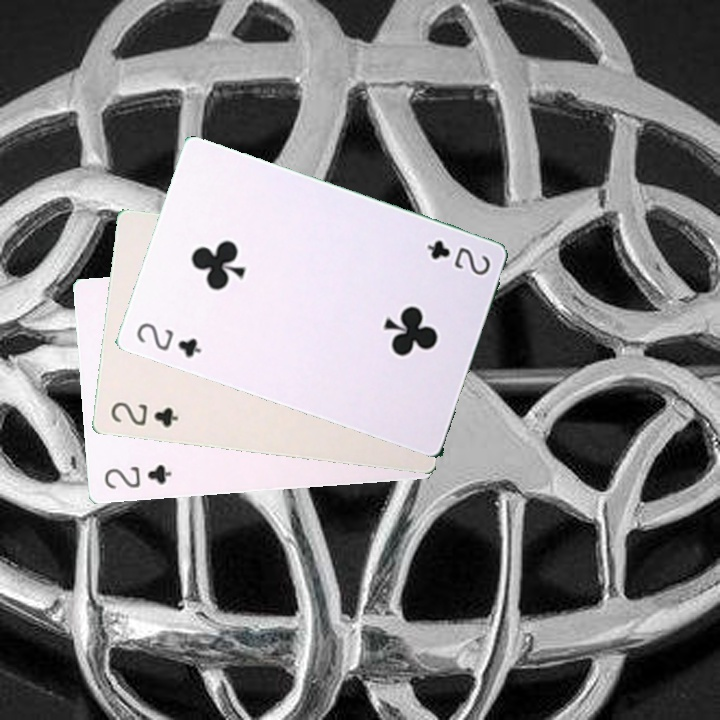2c: (132, 318, 204, 360), (423, 236, 493, 279), (107, 398, 181, 431), (100, 460, 175, 492)
